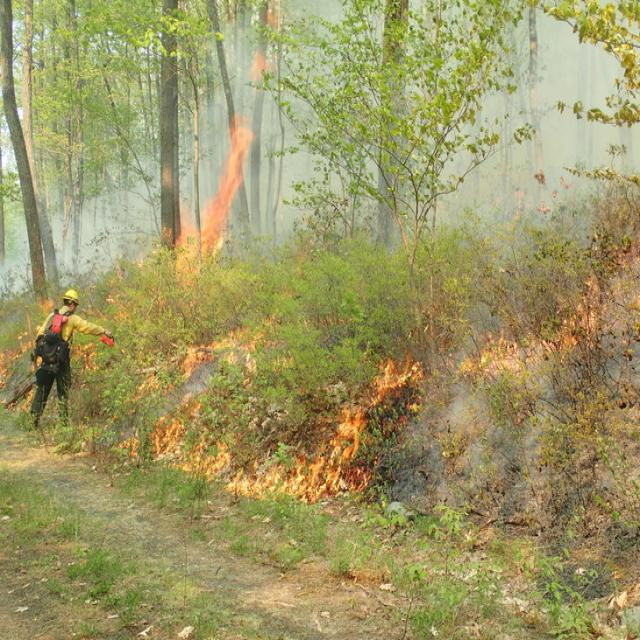fire: (198, 125, 250, 249), (231, 457, 358, 499)
smoke: (495, 51, 624, 181)
